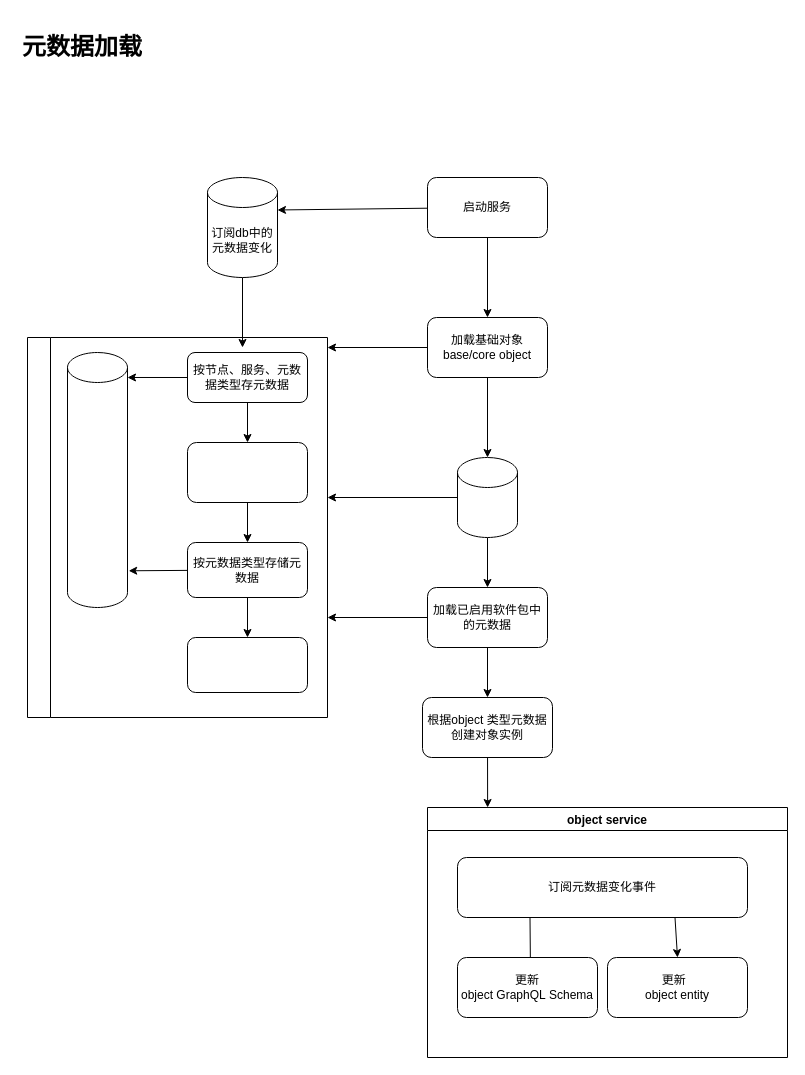
Some shapes in this 805 by 1075 pixel diagram are drawn without their labels. The box of each missing label's shape, as (x1, y1, x2, y2) in pixels:
redis db: (66, 352, 128, 608)
元数据加载引擎: (26, 336, 328, 718)
加载db中定义的元数据: (456, 456, 518, 538)
发送元数据变化事件: (186, 636, 308, 692)
按db优先的规则计算出最终的元数据并继承基础对象: (186, 442, 308, 502)
